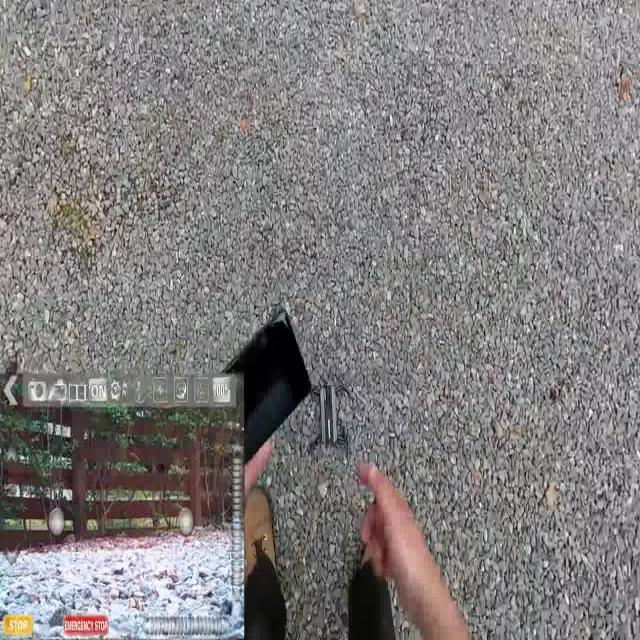Drone_FW: (310, 373, 354, 449)
